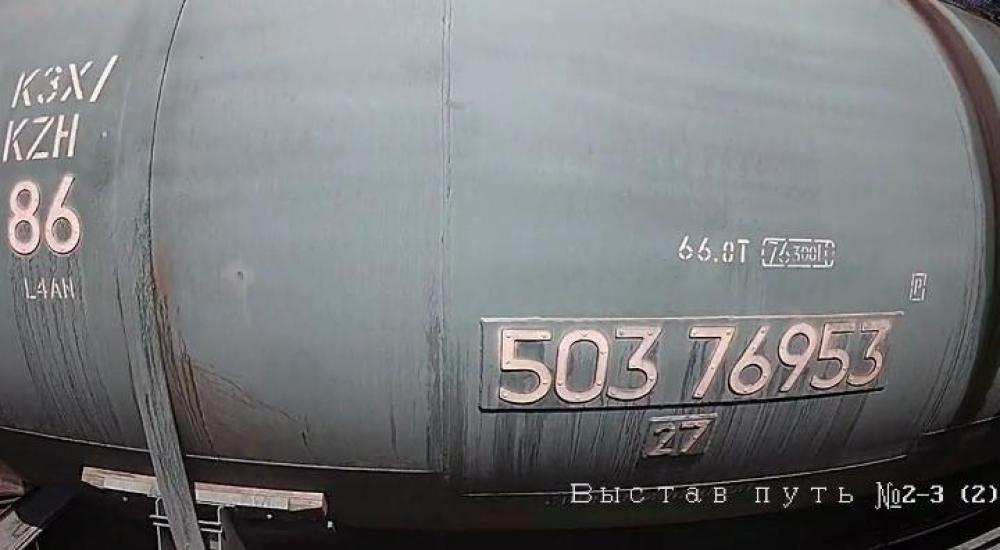Wagon-number: (481, 316, 892, 410)
